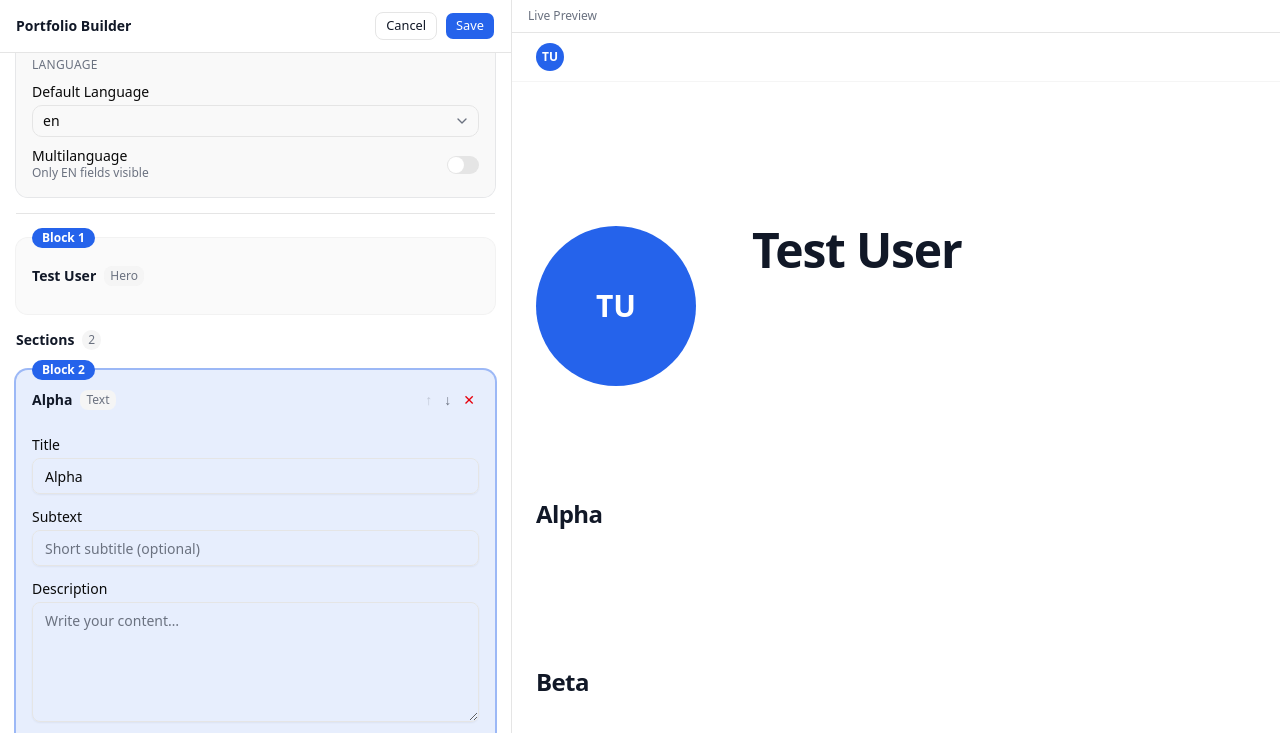
it: PortfolioBuilder — sections › move up/down reorders sections in the editor
(page scrolled)
Note: Move Alpha down — its ↓ button is the first "Move down" button
Click the button titled "Move down" at (448, 400), box [440,386,455,414]
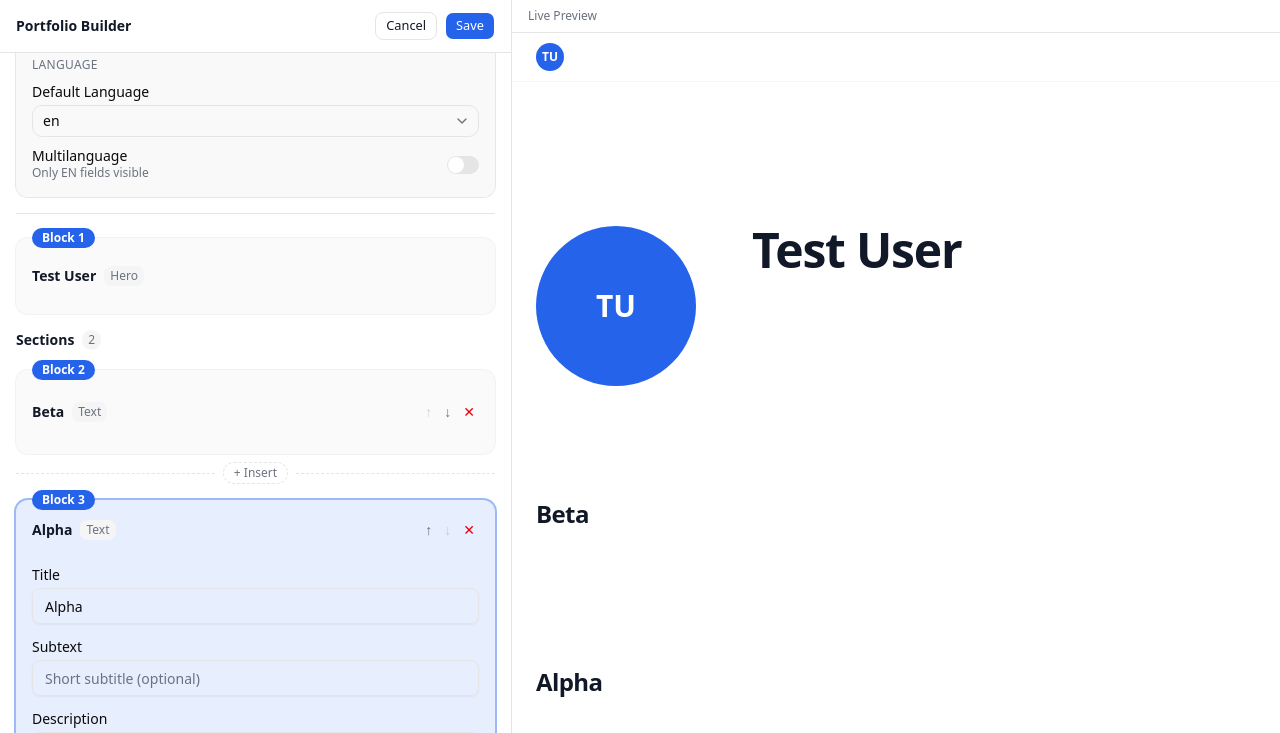
Expected: the text "Alpha" is shown, [32,520,72,540]
Expected: the text "Beta" is shown, [32,402,64,422]
